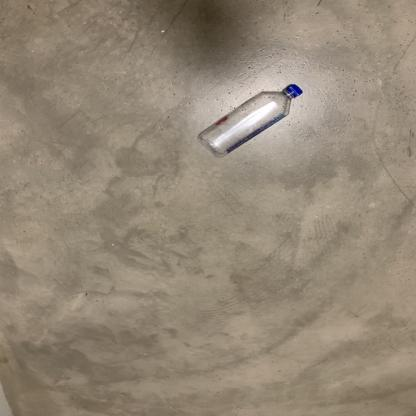trash: (197, 82, 304, 160)
